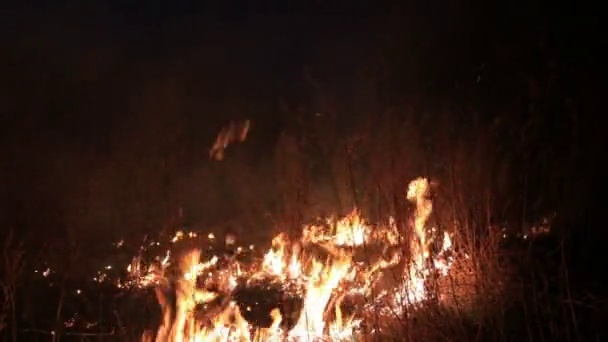fire: (143, 175, 451, 342)
